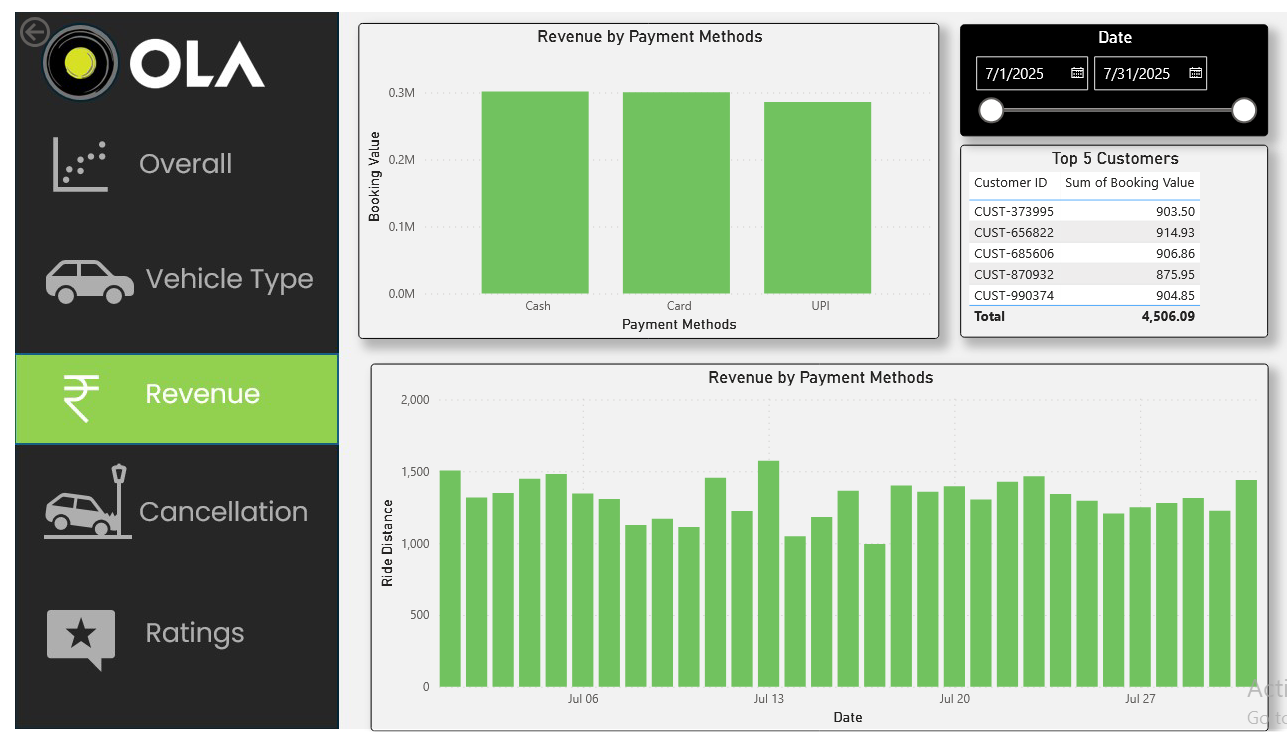

The dashboard page shown, as its layout file describes it:
{"tool":"powerbi","page":{"name":"Revenue","canvas":[1280,720],"ordinal":2},"visuals":[{"type":"actionButton","box":[0,217.3,324.6,90.7],"z":0},{"type":"actionButton","box":[0,327.2,324.6,90.7],"z":1000},{"type":"actionButton","box":[0,446,324.6,90.7],"z":2000},{"type":"actionButton","box":[0,572.5,324.6,90.7],"z":3000},{"type":"actionButton","box":[0,122.7,324.6,90.7],"z":4000},{"type":"columnChart","title":"Revenue by Payment Methods","fields":{"Y":["Sum(Bookings.Booking Value)"],"Category":["Bookings.Payment Methods"]},"box":[343.3,11.1,581.3,315.6],"z":5000},{"type":"columnChart","title":"Revenue by Payment Methods","fields":{"Y":["Sum(Bookings.Ride Distance (km))"],"Category":["Bookings.Date"]},"box":[355,351.7,898.3,368.3],"z":6000},{"type":"slicer","title":"Date","fields":{"Values":["Bookings.Date"]},"box":[945,11.7,308.3,111.7],"z":7000},{"type":"tableEx","title":"Top 5 Customers","fields":{"Values":["Bookings.Customer ID","Sum(Bookings.Booking Value)"]},"box":[945,133.3,308.3,193.3],"z":8000},{"type":"actionButton","box":[0,0,100,40],"z":9000}]}

Visuals, with their boxes on the page's 1280x720 design canvas (x1, y1, x2, y2). These are canvas units, not pixel positions in the 1287x752 screenshot, which may show the page scaled, cropped or inside an application window:
actionButton: select_region(0, 217, 325, 308)
actionButton: select_region(0, 327, 325, 418)
actionButton: select_region(0, 446, 325, 537)
actionButton: select_region(0, 572, 325, 663)
actionButton: select_region(0, 123, 325, 213)
"Revenue by Payment Methods" columnChart: select_region(343, 11, 925, 327)
"Revenue by Payment Methods" columnChart: select_region(355, 352, 1253, 720)
"Date" slicer: select_region(945, 12, 1253, 123)
"Top 5 Customers" tableEx: select_region(945, 133, 1253, 327)
actionButton: select_region(0, 0, 100, 40)
